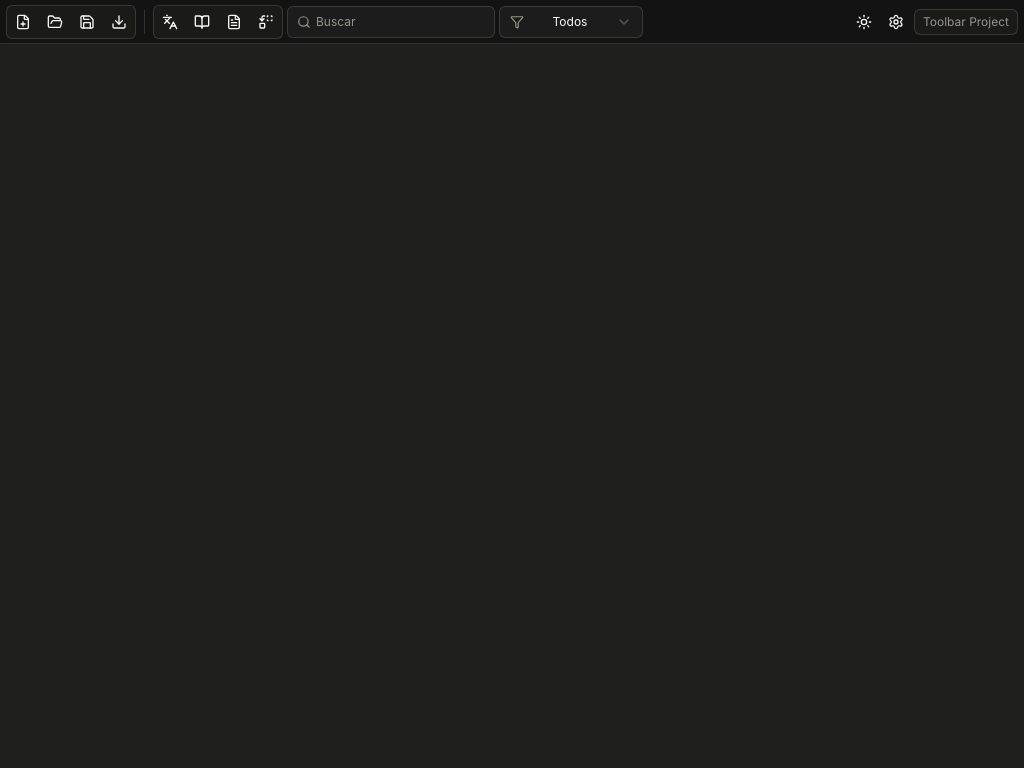
Test case: Toolbar export readiness › omite el preflight cuando todas las entradas traducibles están revisadas o finales
This screenshot has width=1024, height=768.
Click the button named "Exportar". click: (119, 22)
box: [105, 8, 133, 36]
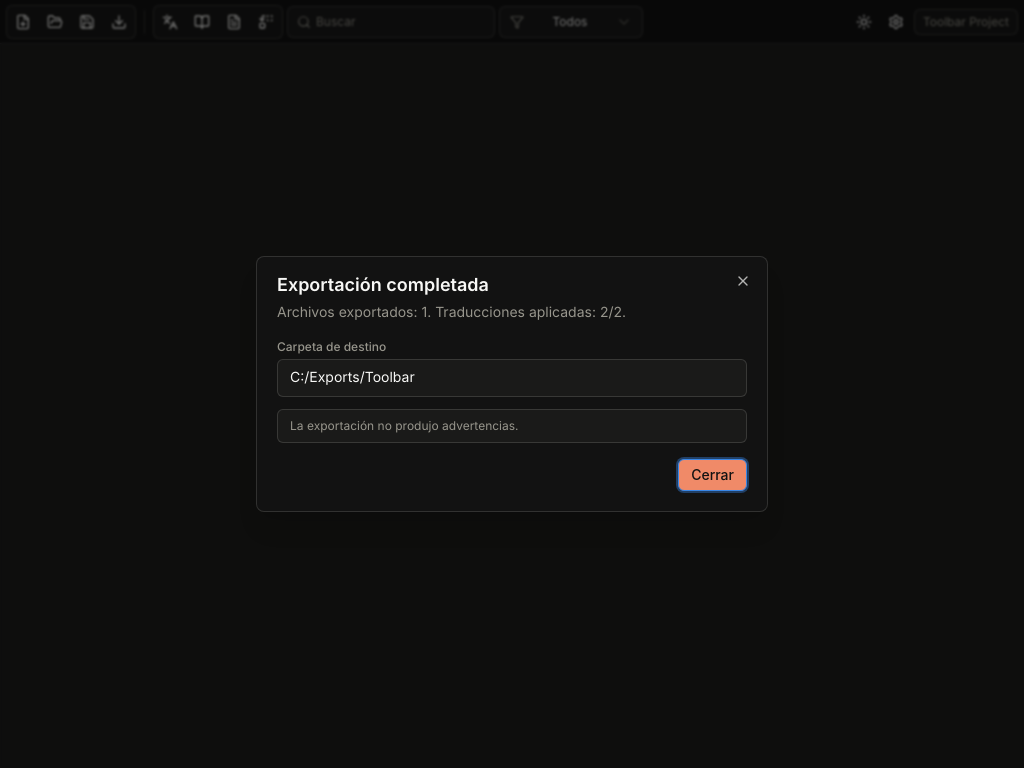
Result: the heading "Exportación completada" is shown at [277, 275, 489, 296]
